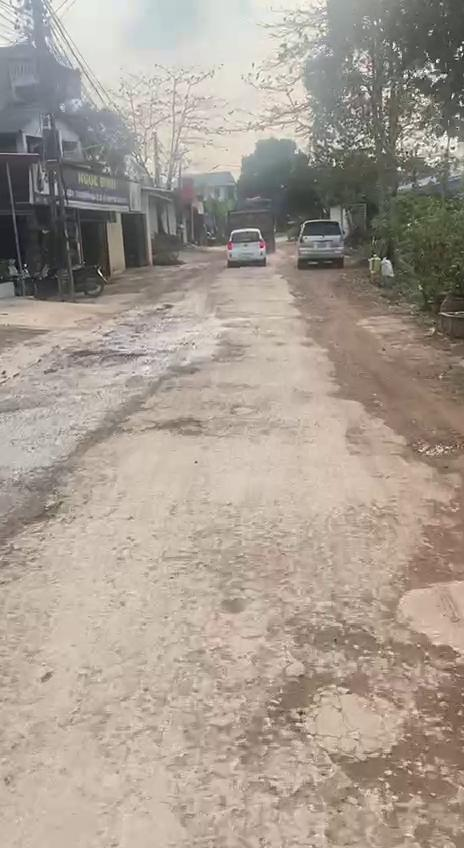pothole: (276, 662, 464, 810), (404, 435, 461, 460), (21, 497, 62, 530), (154, 412, 203, 436)
